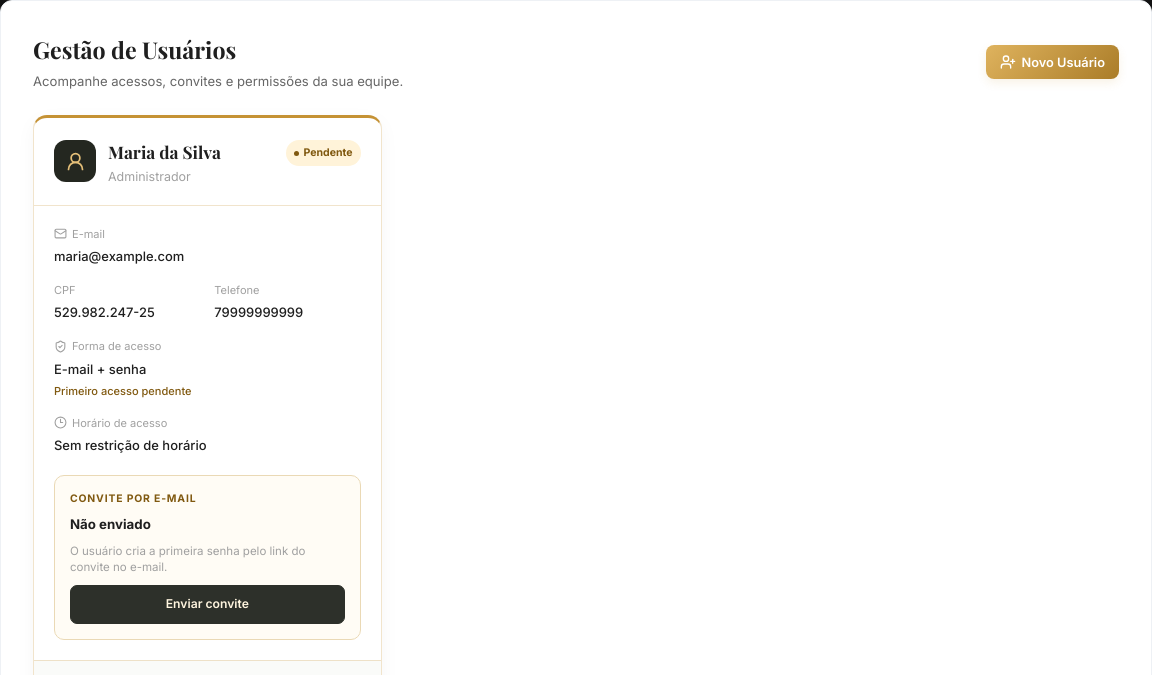
cadastro de usuário por convite › mostra falha de envio sem sucesso falso e mantém os dados do usuário
Expected: the text "Não enviado" is shown, [70,514,151,533]
Click the button "Enviar convite" at coordinates (207, 604), box [70,585,345,624]
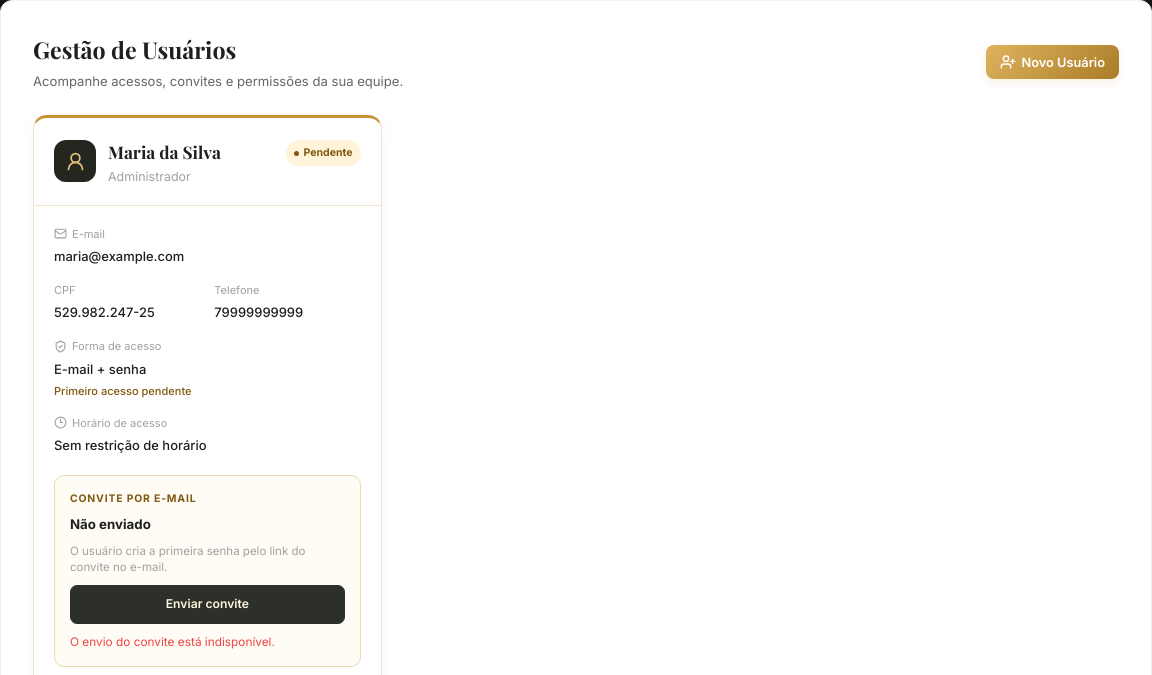
Expected: the text "Não enviado" is shown, [70,514,151,533]
Expected: the message reads "O envio do convite está indisponível.", [70,635,275,649]
